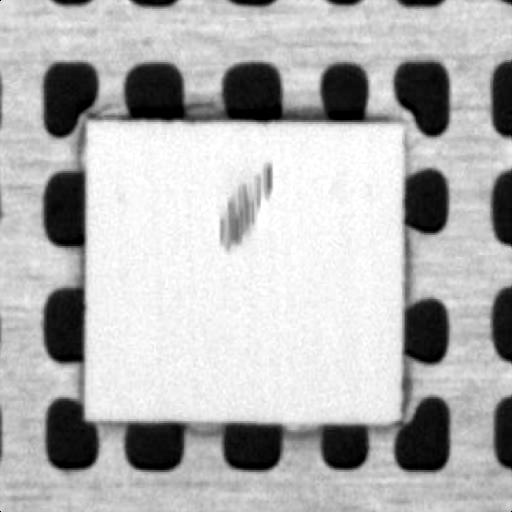DIE_INK: (217, 157, 272, 251)
